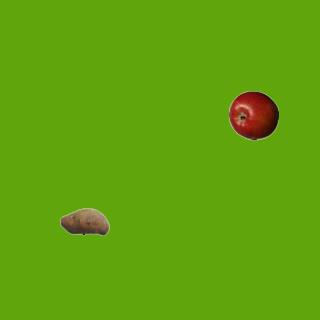Apple Braeburn: (228, 90, 278, 140)
Potato Sweet: (59, 196, 109, 246)
